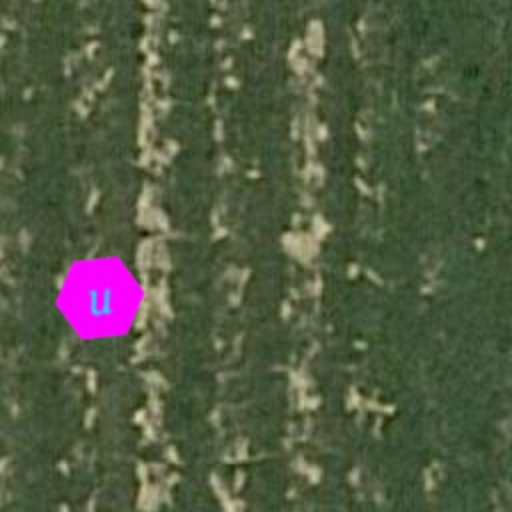hexagon: (48, 246, 152, 350)
